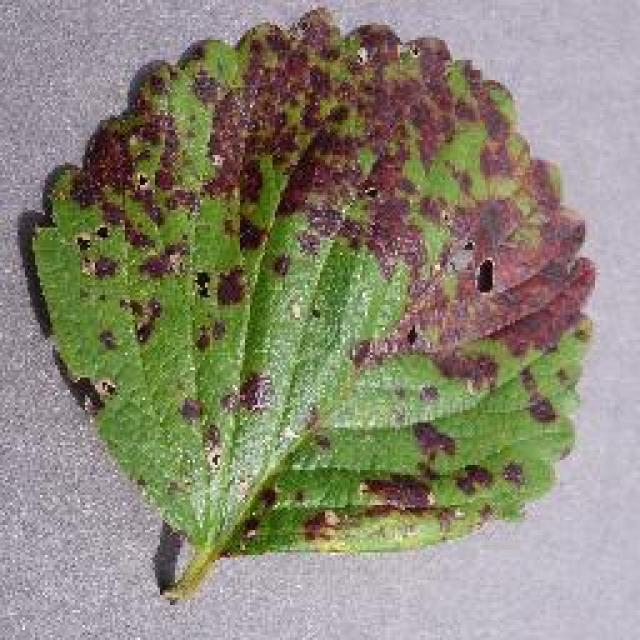Strawberry leaf scorch: (134, 74, 538, 508)
